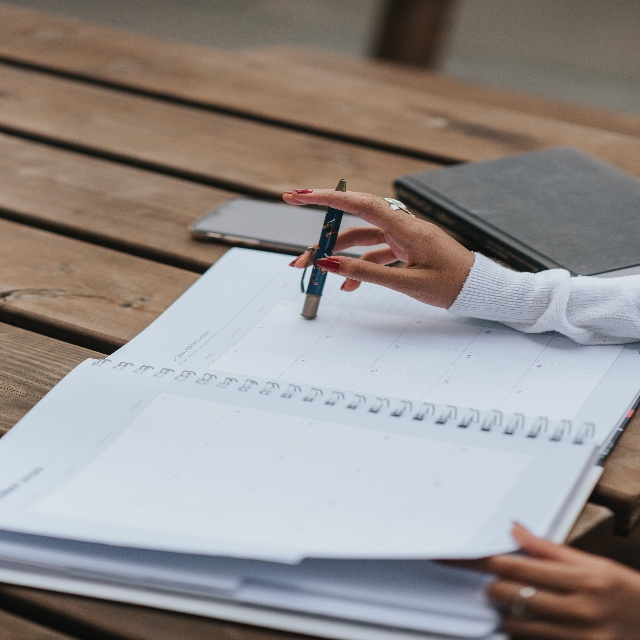Sin_guantes: (280, 185, 474, 309), (476, 502, 640, 640)
